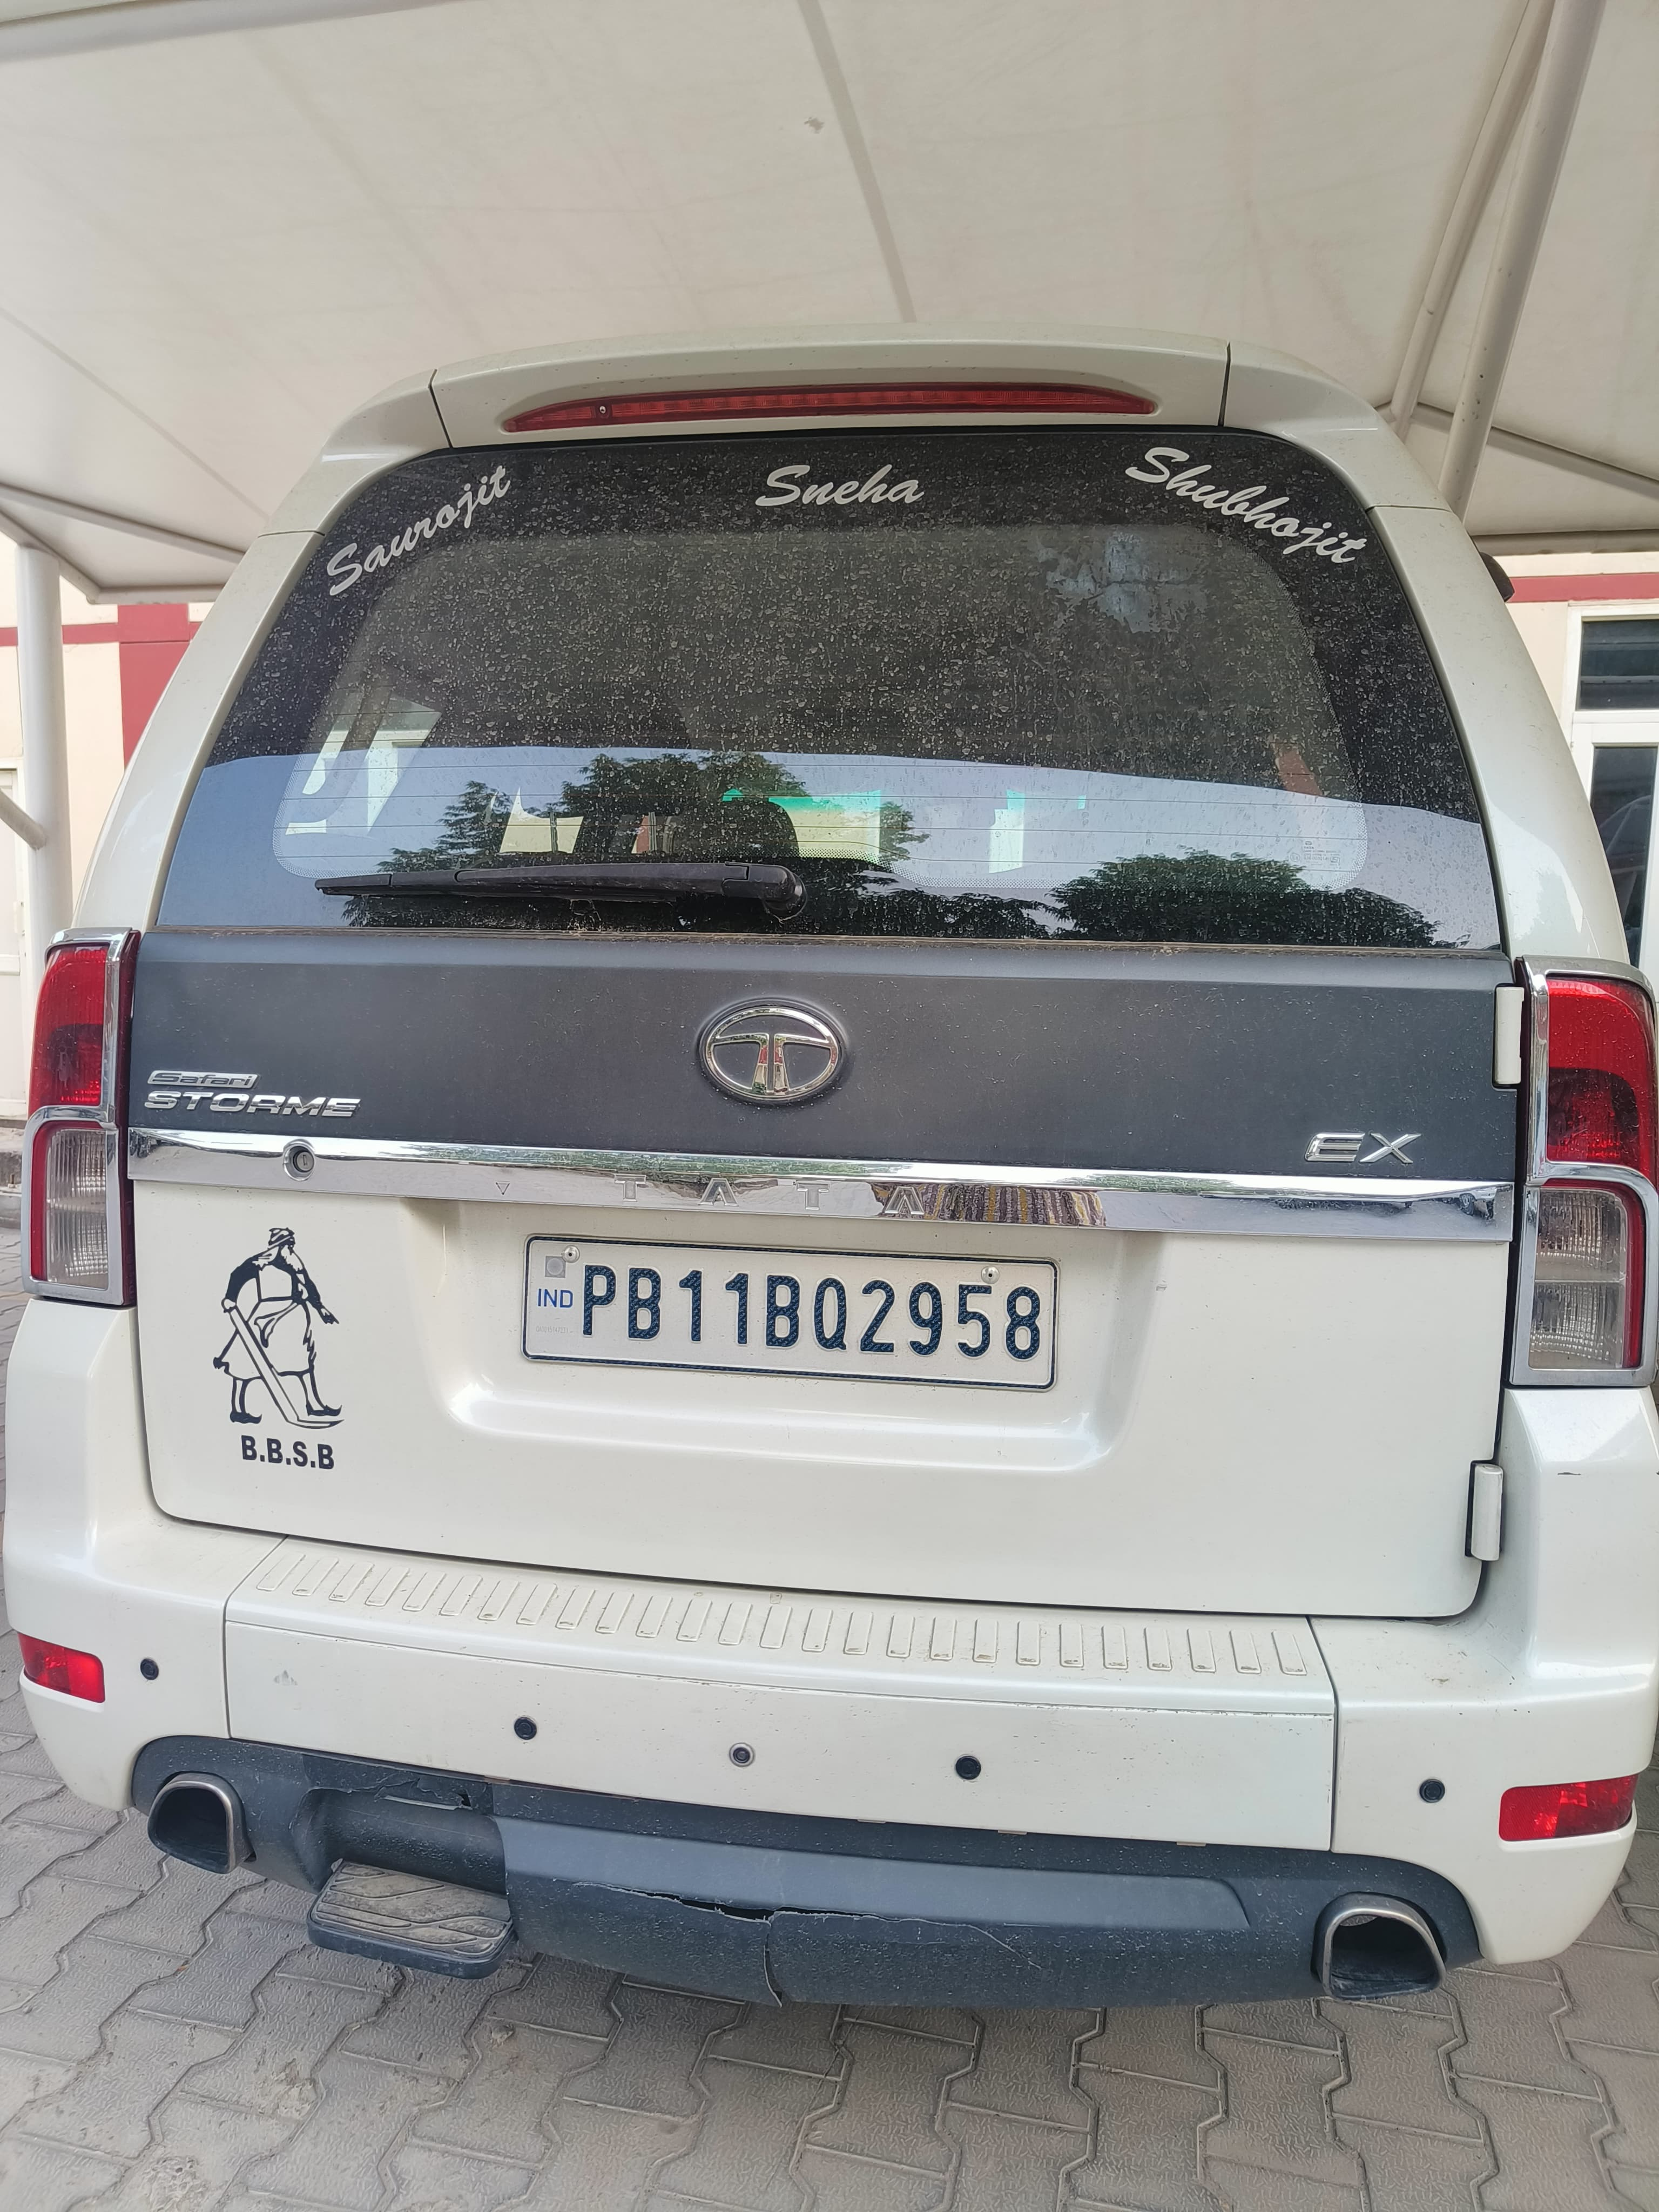license plate: (524, 1238, 1055, 1388)
